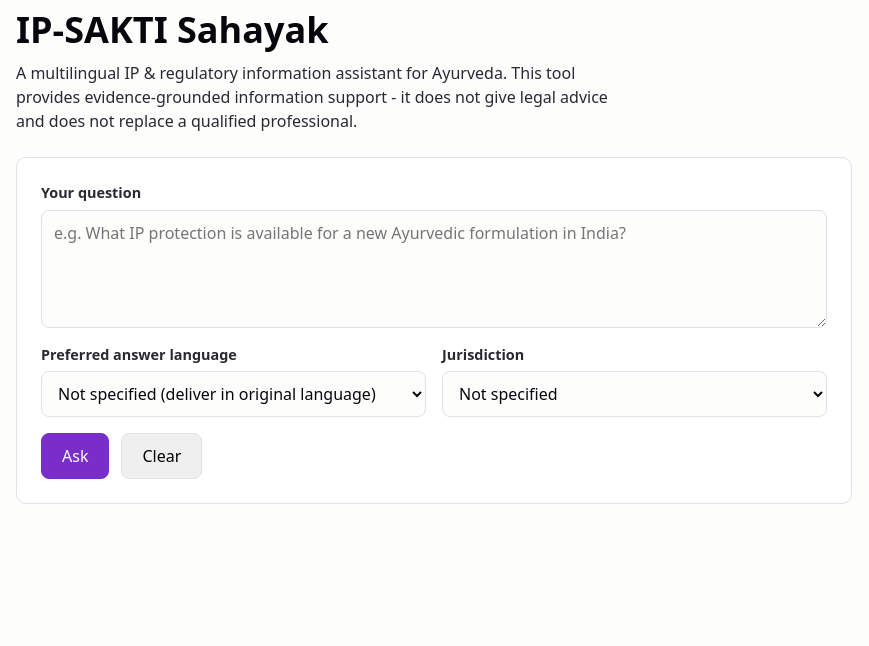
it: query submission › renders an error panel on a network failure
Type "query" into the text box labelled "Your question".
click(434, 269); type("query")  # box x1=41 y1=210 x2=827 y2=328
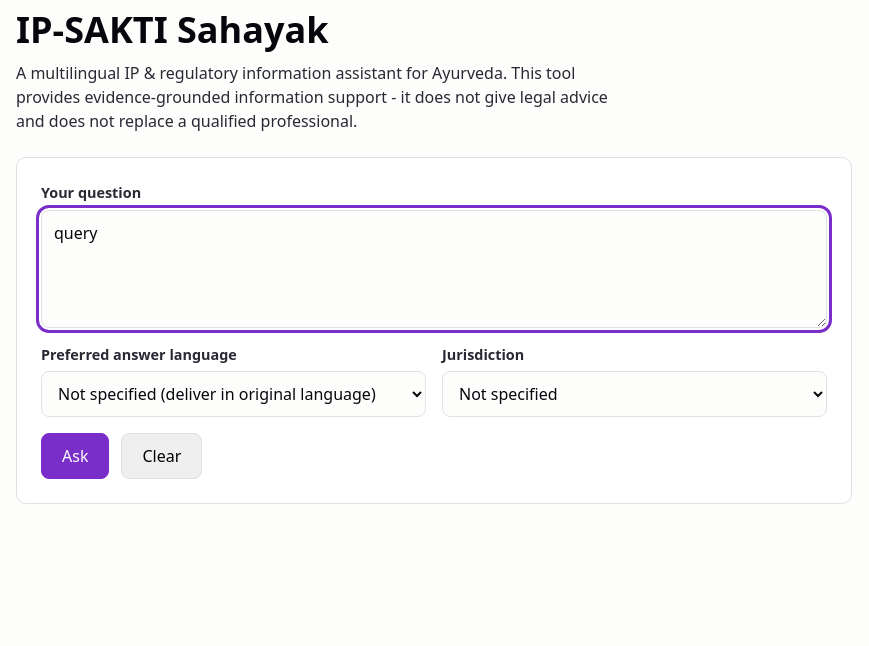
Click the button "Ask".
click(75, 456)  # box x1=41 y1=433 x2=109 y2=479
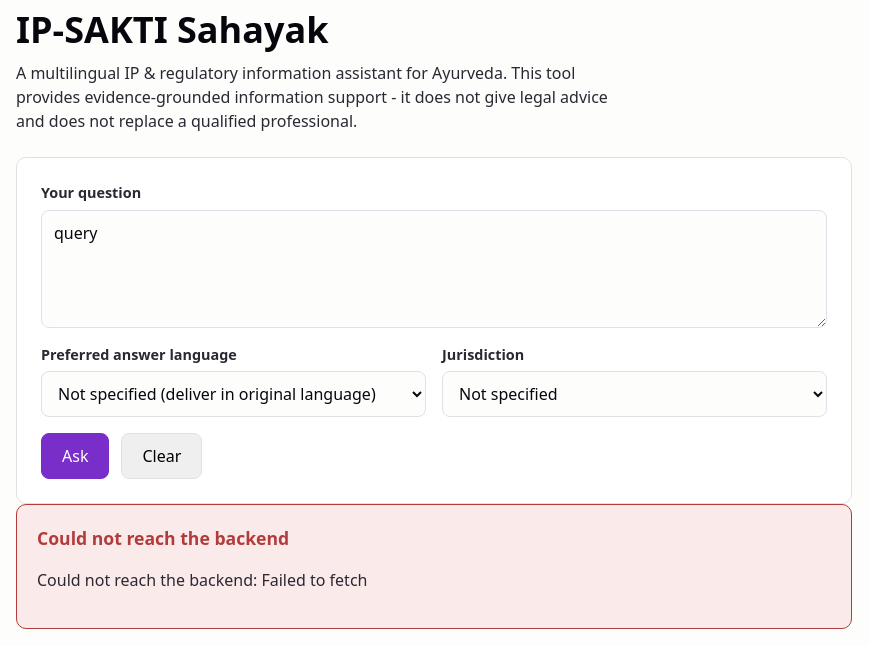
Expected: the message shows "Could not reach the backend", x1=37 y1=526 x2=289 y2=550
